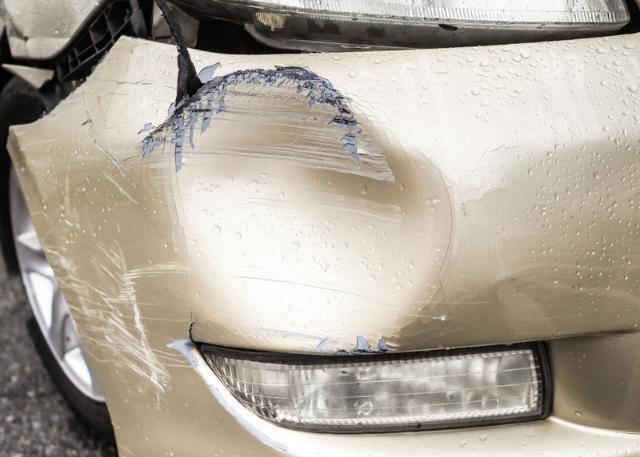Bumper: (18, 49, 536, 359)
